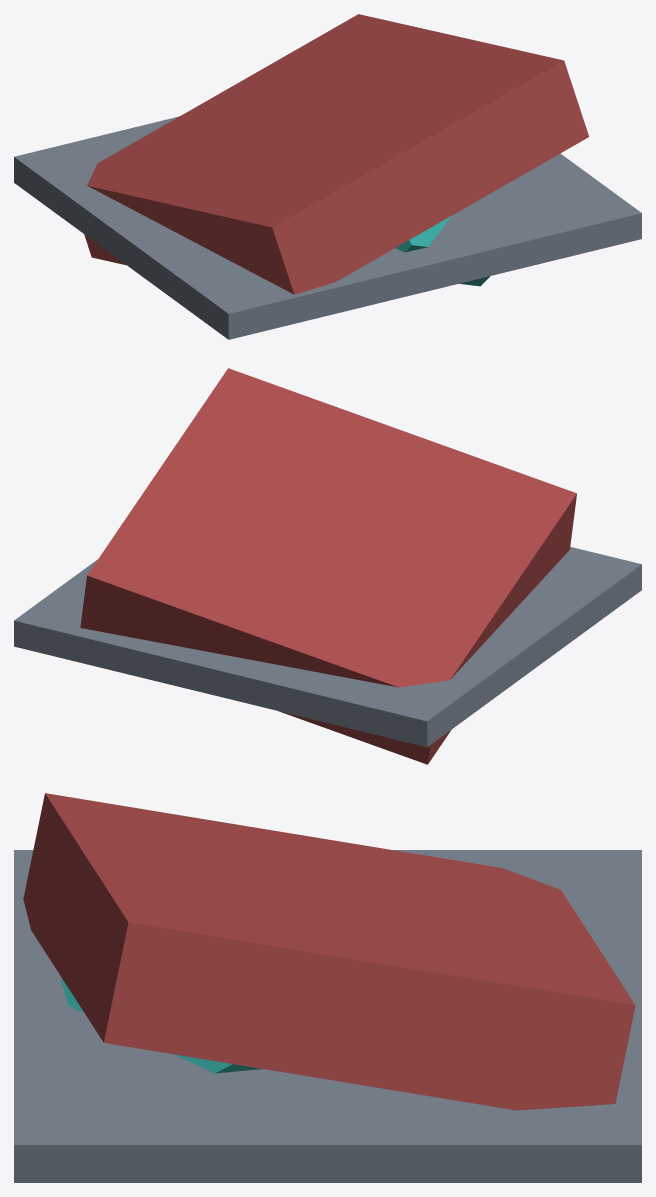
The model's file is commercial-shop-mansard-wreck.glb.
3 renders of one model, top to bottom at view 1: azimuth 30°, elevation 25°; view 2: azimuth 150°, elevation 25°; view 3: azimuth 270°, elevation 25°, orthographic. The views are drawn at different scales.
Visible parts, largest first — view 1: Root; view 2: Root; view 3: Root.
Part boxes in pixels (left/top/right/bottom): Root: left=14, top=14, right=641, bottom=339; Root: left=14, top=368, right=641, bottom=764; Root: left=14, top=793, right=641, bottom=1182.
Bounding box in the file's own units: 10 × 4.97 × 9.
